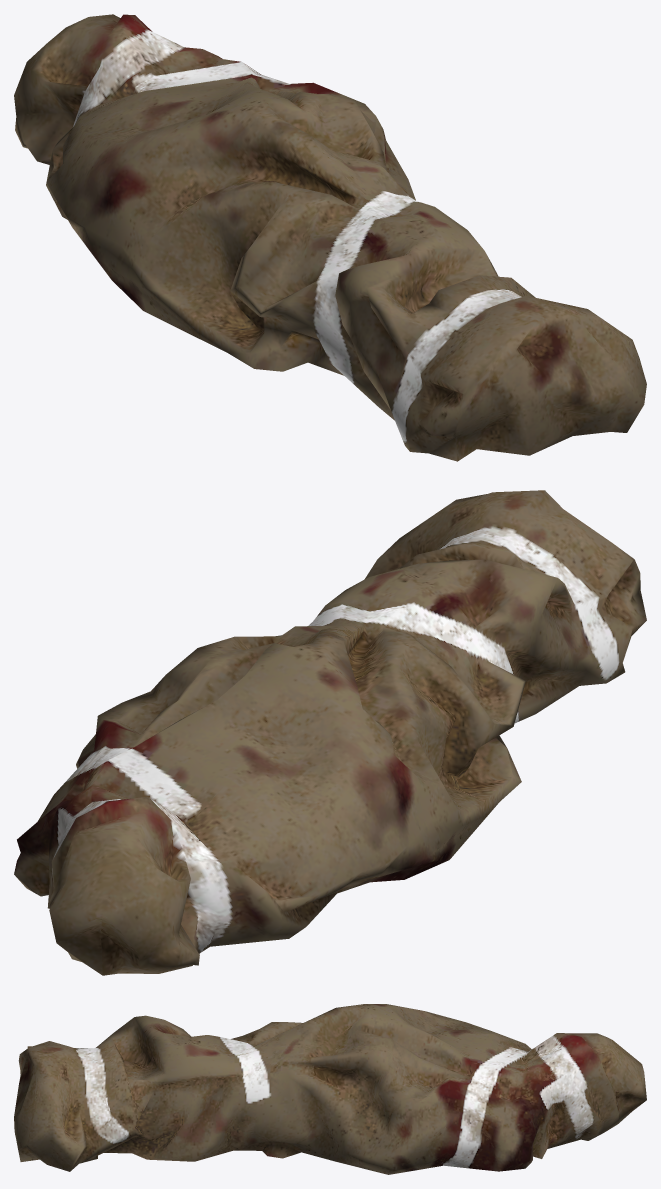
The model's file is sm26_031_humanbag01a.fbx.
The picture shows the model from 3 angles, top to bottom: view 1: azimuth 30°, elevation 25°; view 2: azimuth 150°, elevation 25°; view 3: azimuth 270°, elevation 25°; orthographic projection. The views are drawn at different scales.
Parts seen in each view (by area): view 1: LOD_1_Group_0_Sub_1__sm26_031_humanBag01A_A_Mat; view 2: LOD_1_Group_0_Sub_1__sm26_031_humanBag01A_A_Mat; view 3: LOD_1_Group_0_Sub_1__sm26_031_humanBag01A_A_Mat.
Part boxes in pixels (x1,y1,x2,y2): LOD_1_Group_0_Sub_1__sm26_031_humanBag01A_A_Mat: (14, 14, 646, 461); LOD_1_Group_0_Sub_1__sm26_031_humanBag01A_A_Mat: (14, 490, 646, 975); LOD_1_Group_0_Sub_1__sm26_031_humanBag01A_A_Mat: (14, 1004, 646, 1174).
Size of the model in its own units: 0.7579 by 0.4106 by 1.98.
